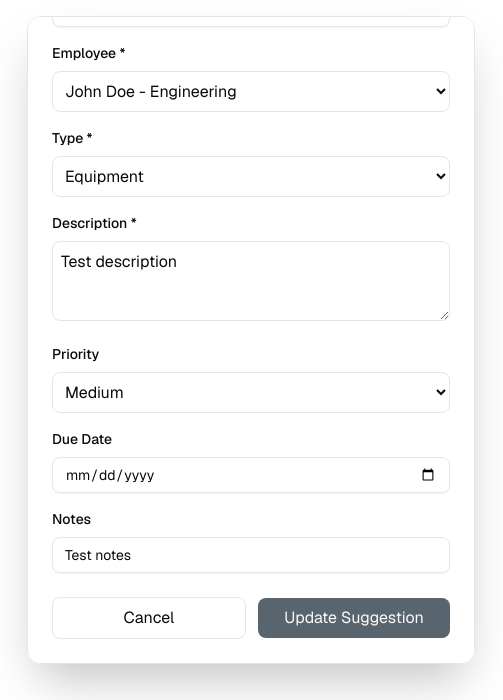
Test: SuggestionModal › Error Handling › shows different error message for edit mode
(page scrolled)
Click the button "Update Suggestion": (354, 618) x1=258 y1=598 x2=450 y2=638
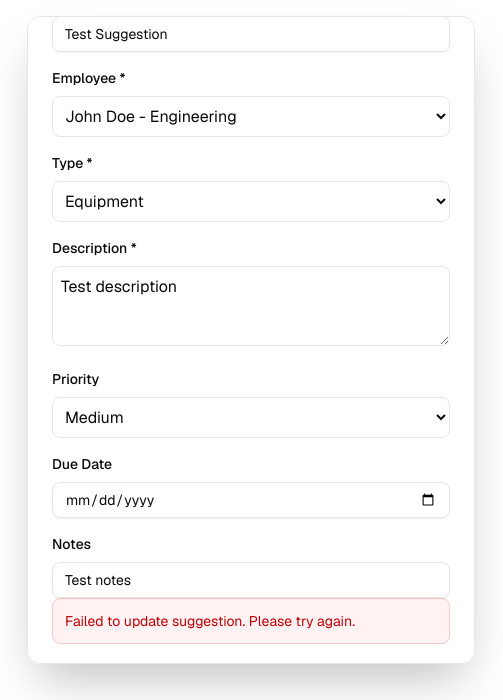
Expected: the text "Failed to update suggestion. Please try again." is shown, x1=65 y1=612 x2=355 y2=630
